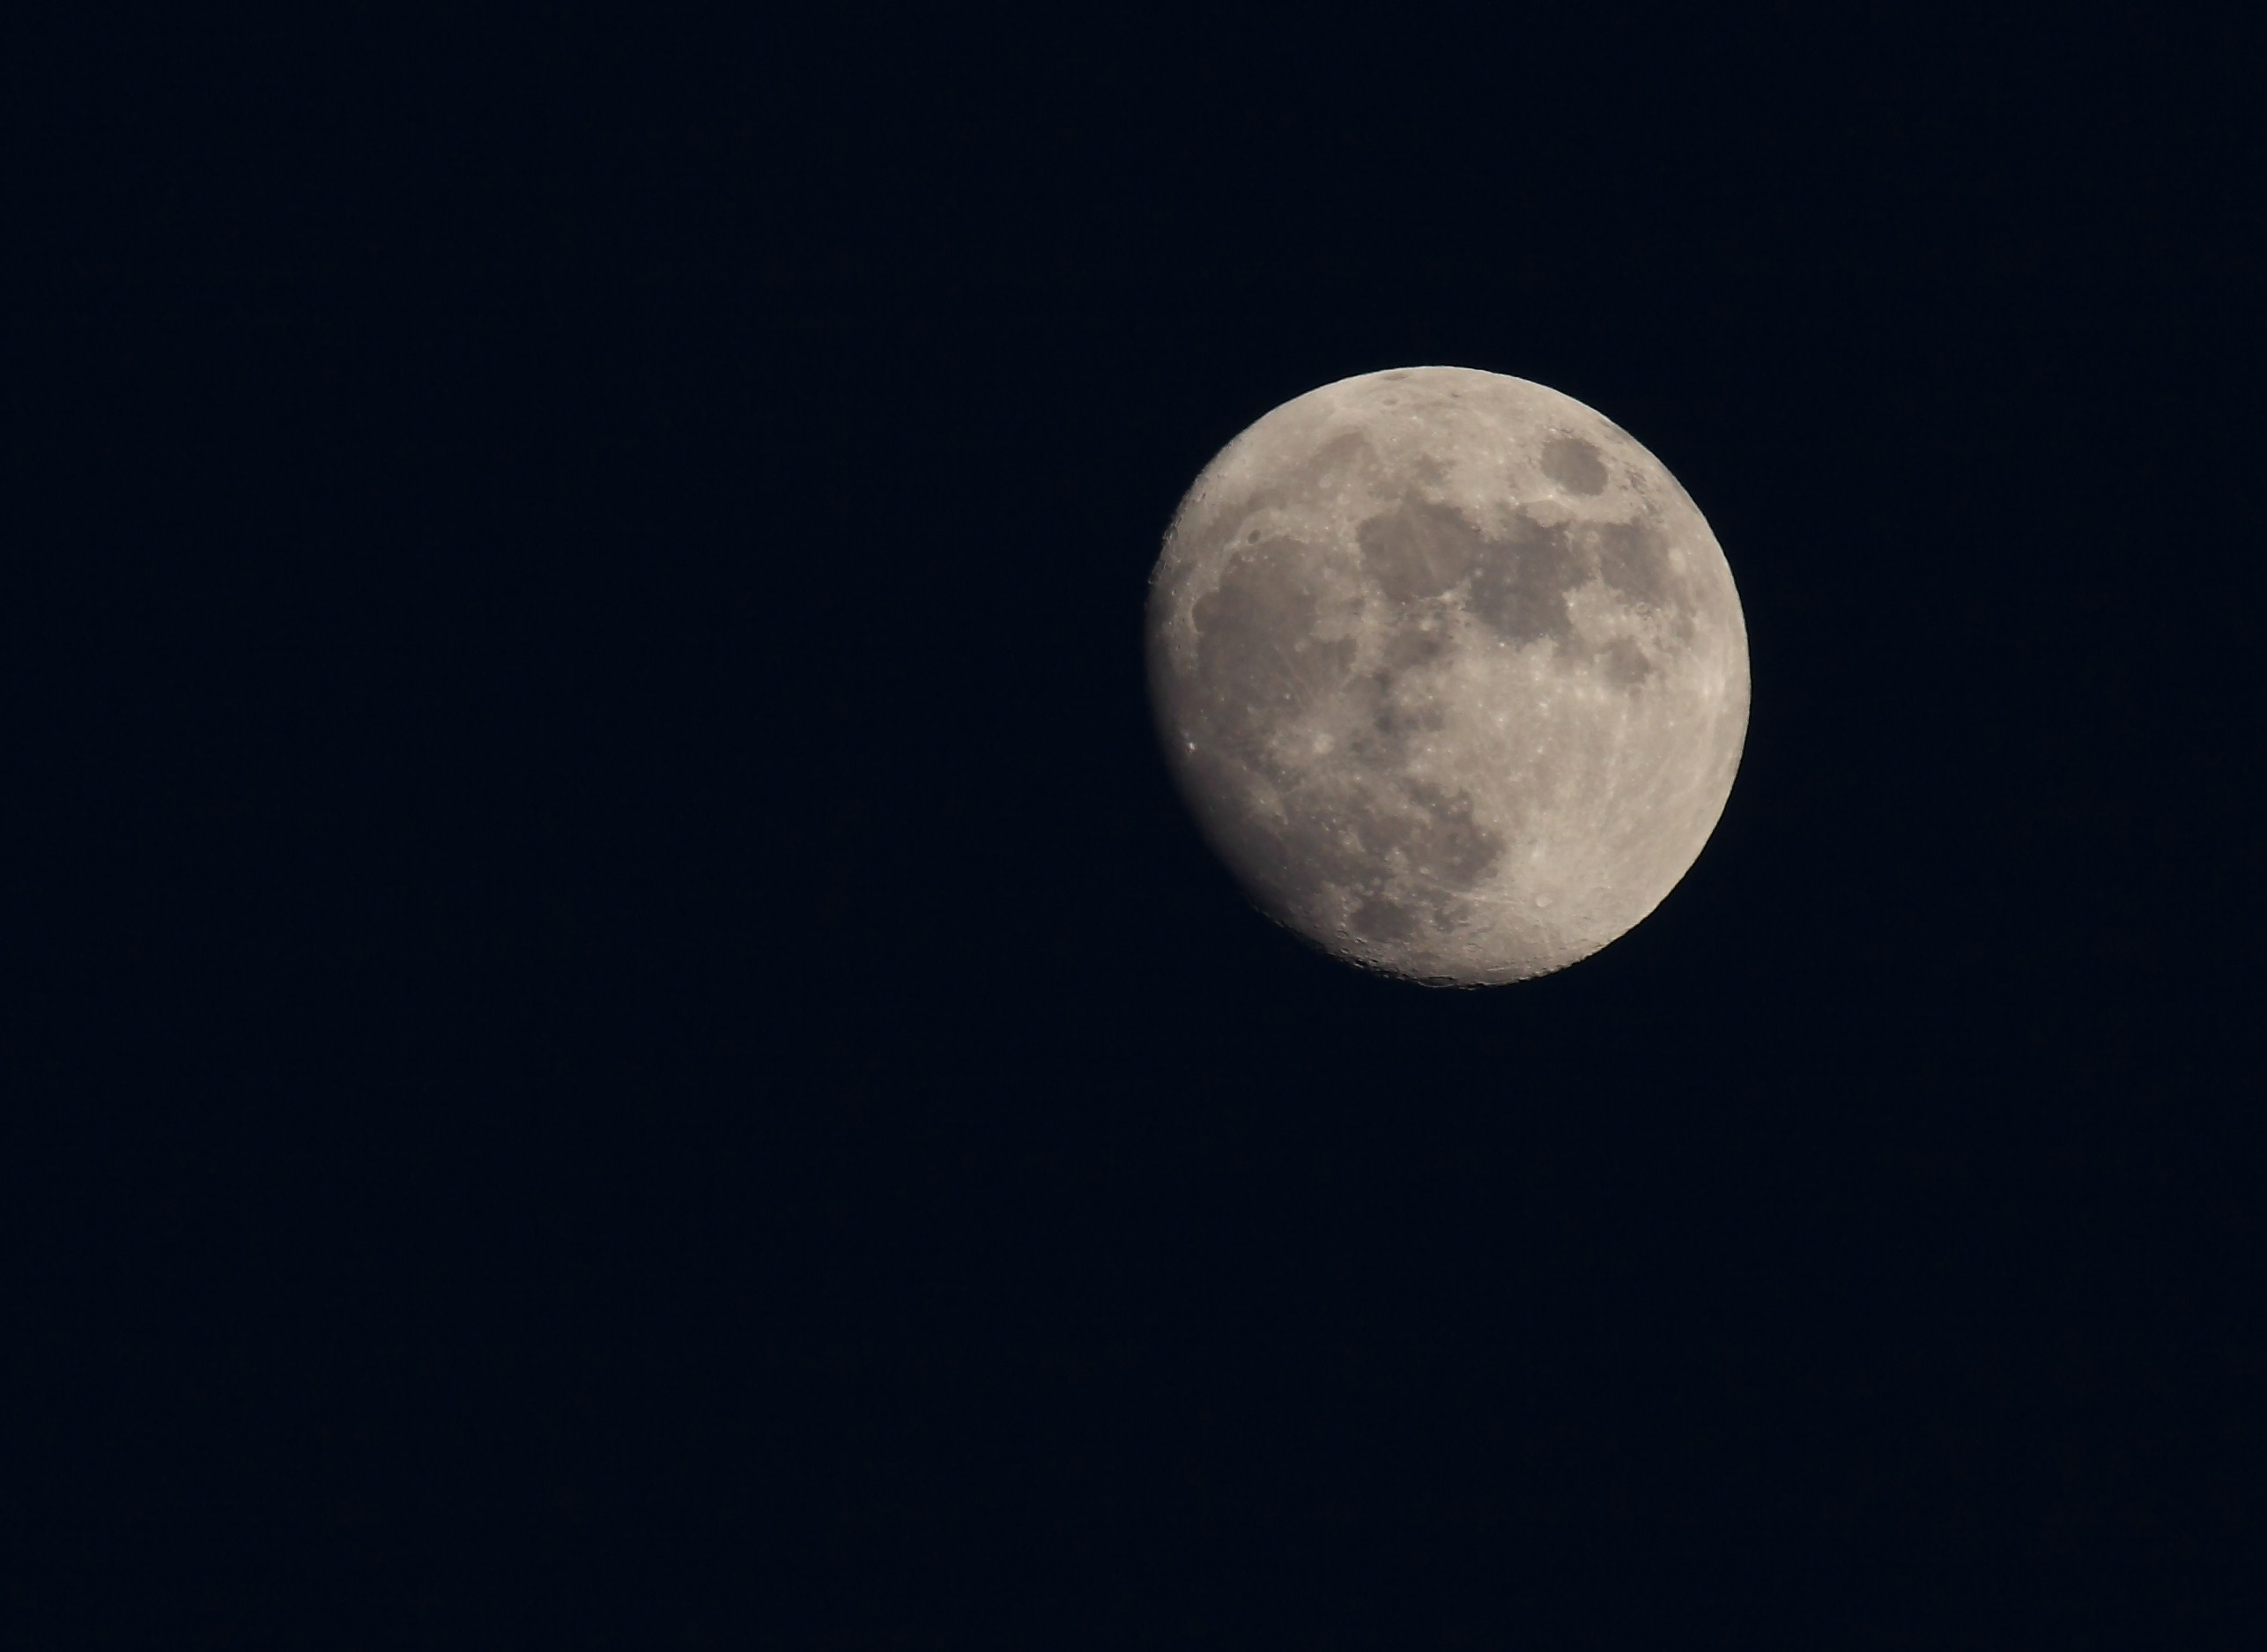crater: (1519, 429, 1621, 510), (1295, 720, 1348, 769), (1519, 871, 1566, 922), (1408, 962, 1464, 999), (1243, 523, 1266, 552), (1327, 922, 1352, 945), (1253, 792, 1276, 816), (1463, 934, 1484, 961), (1415, 860, 1438, 883)
